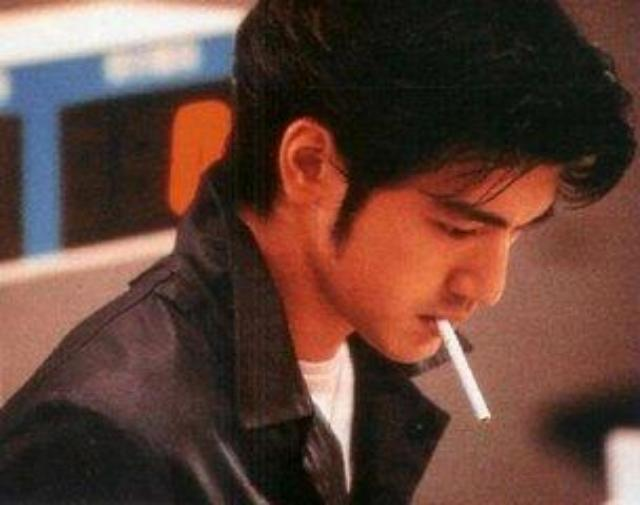Cigarette: (434, 320, 494, 428)
